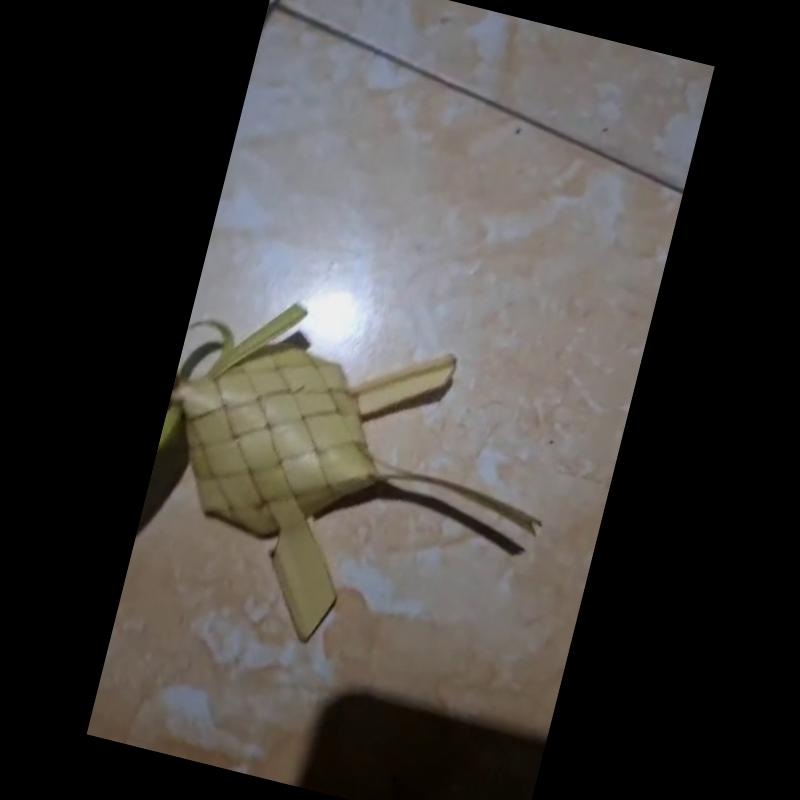Tipat Dampulan: (148, 296, 542, 649)
